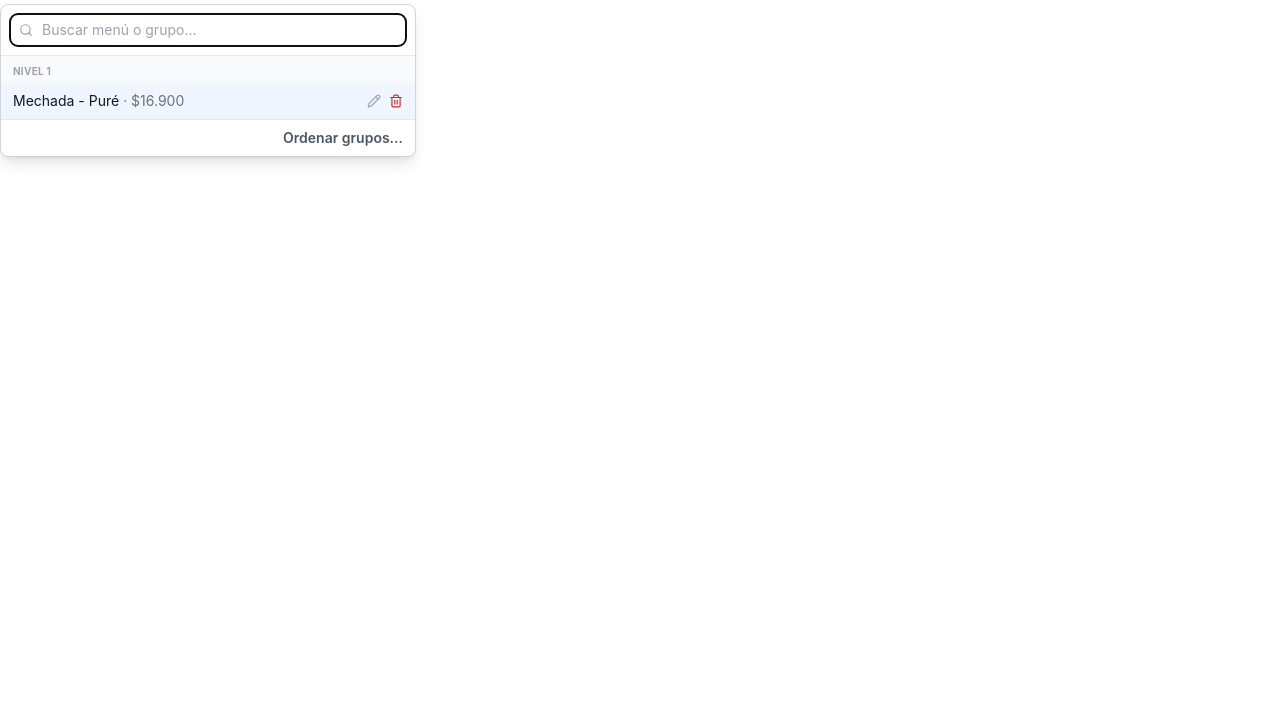
Test: MenusGuardados con grupos › «Ordenar grupos…» abre los grupos de ESA categoría
This screenshot has width=1280, height=720.
Step 1. Click the button "Ordenar grupos…" → (343, 138), box [271,120,415,156]
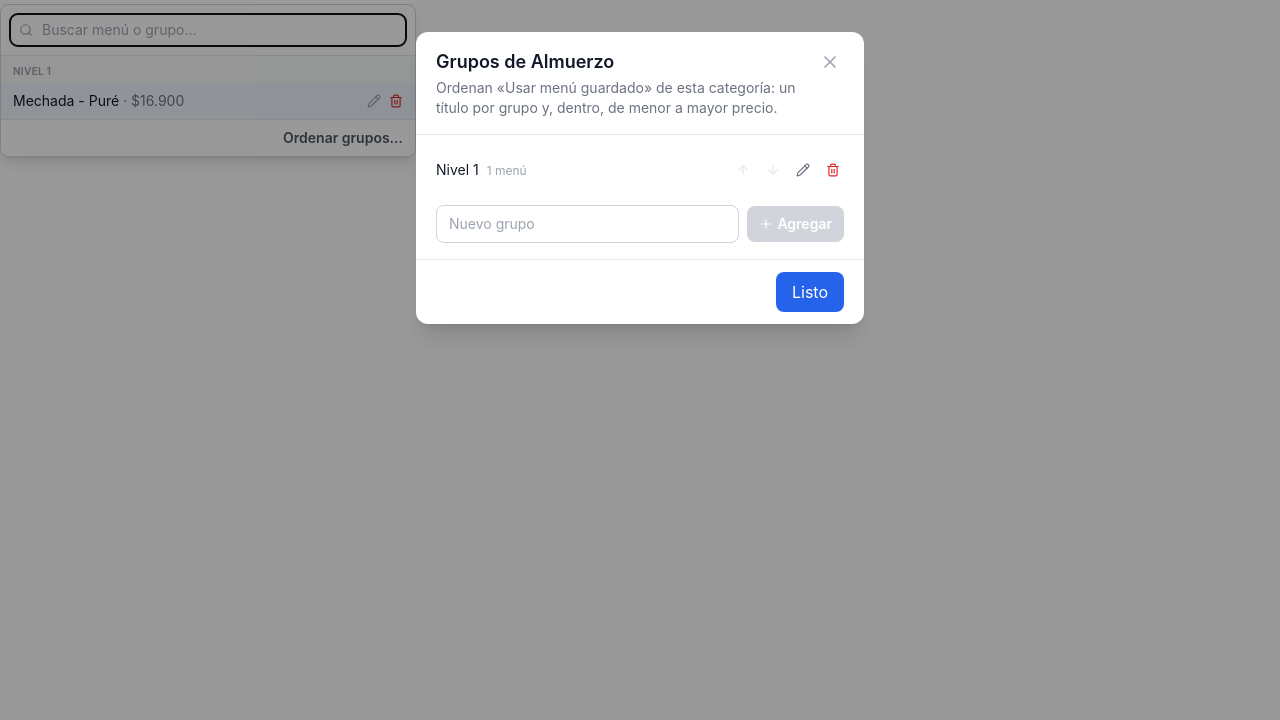
Expected: the heading "Grupos de Almuerzo" is shown, [436,51,614,72]
